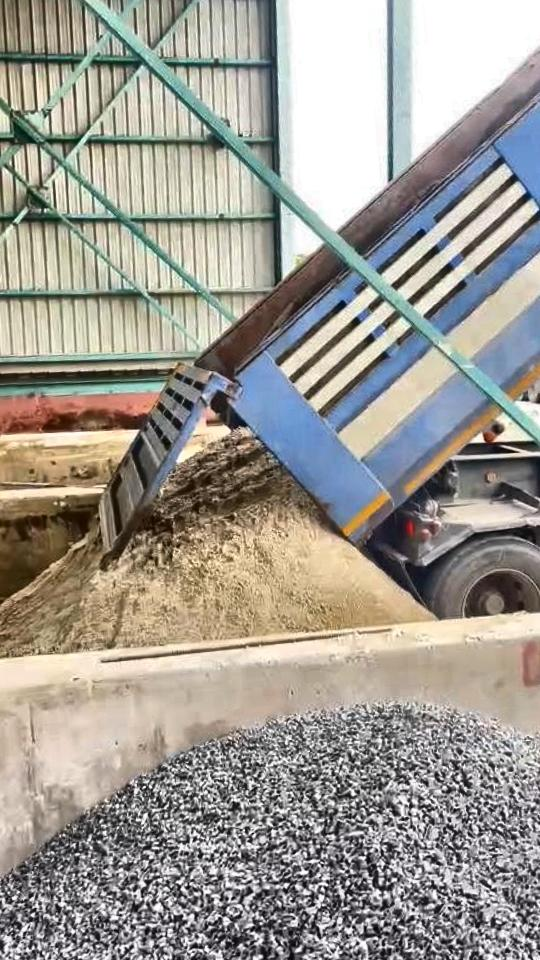gravel: (0, 705, 540, 960)
sand: (0, 431, 431, 661)
